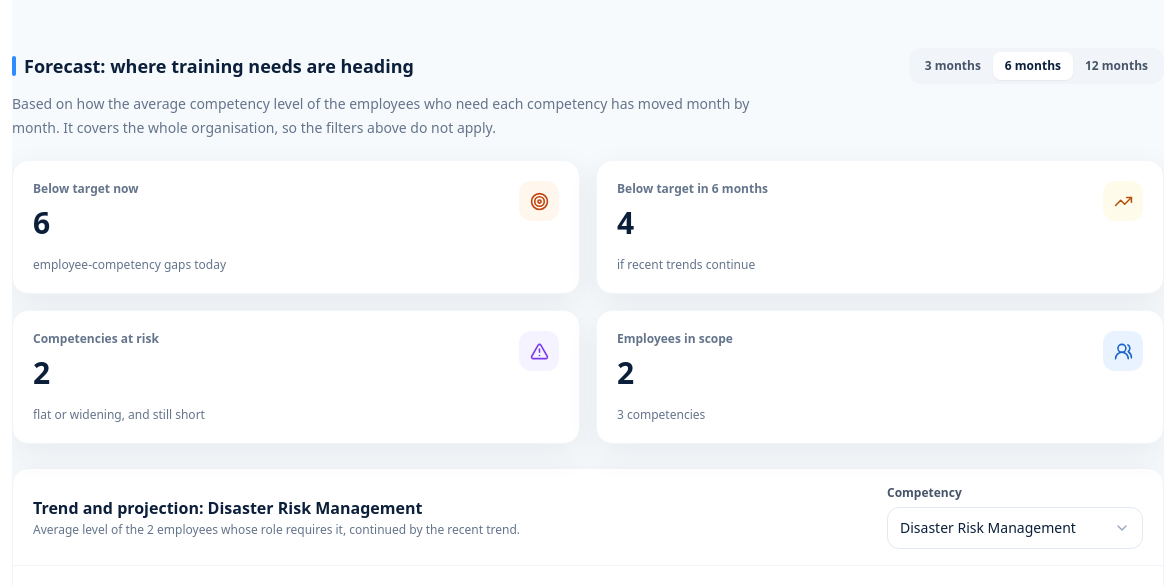
Test: training-needs forecast › looks further ahead on request
Expected: the text "Below target in 6 months" is shown, [617, 181, 768, 197]
Click the button "12 months" at (1116, 66), box [1073, 52, 1160, 80]
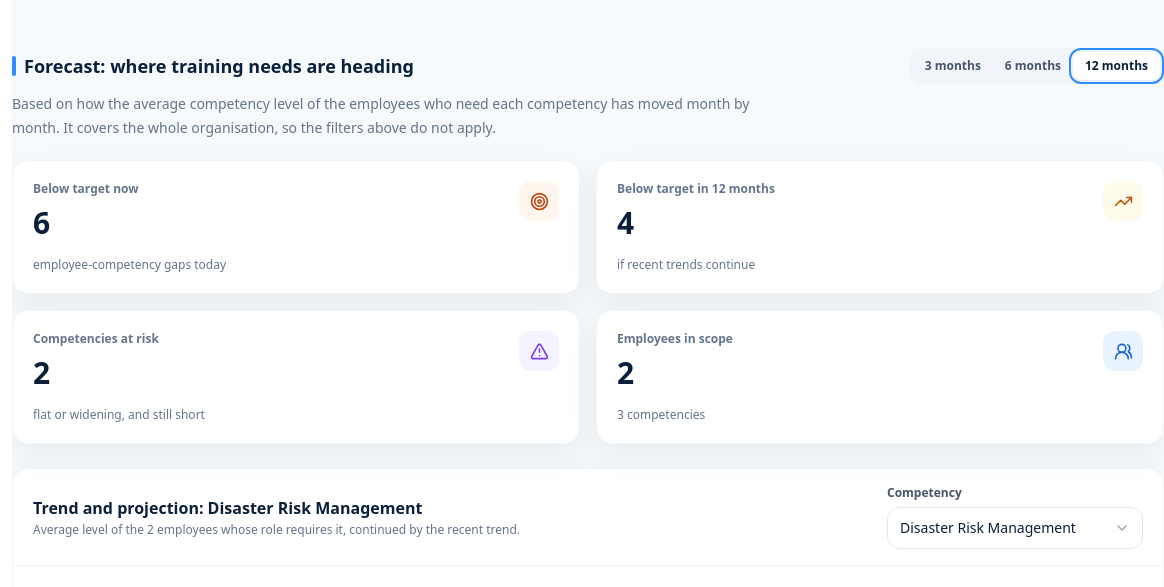
Result: the text "Below target in 12 months" is shown at [617, 181, 775, 197]
